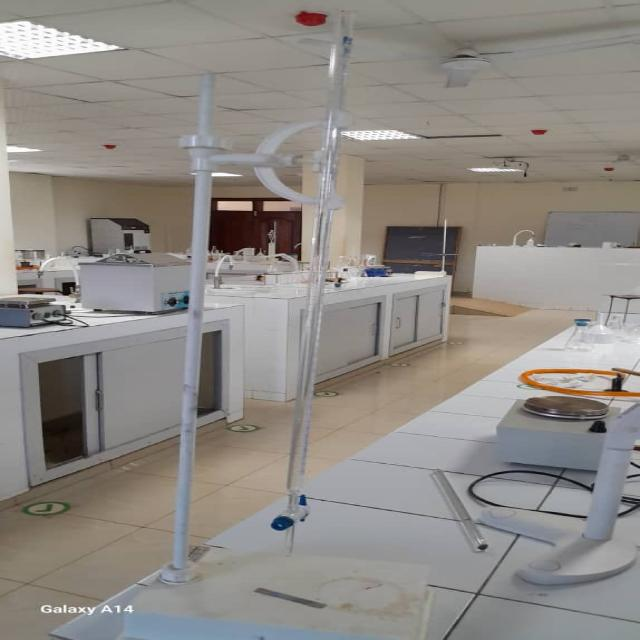Biurette: (243, 24, 369, 560)
